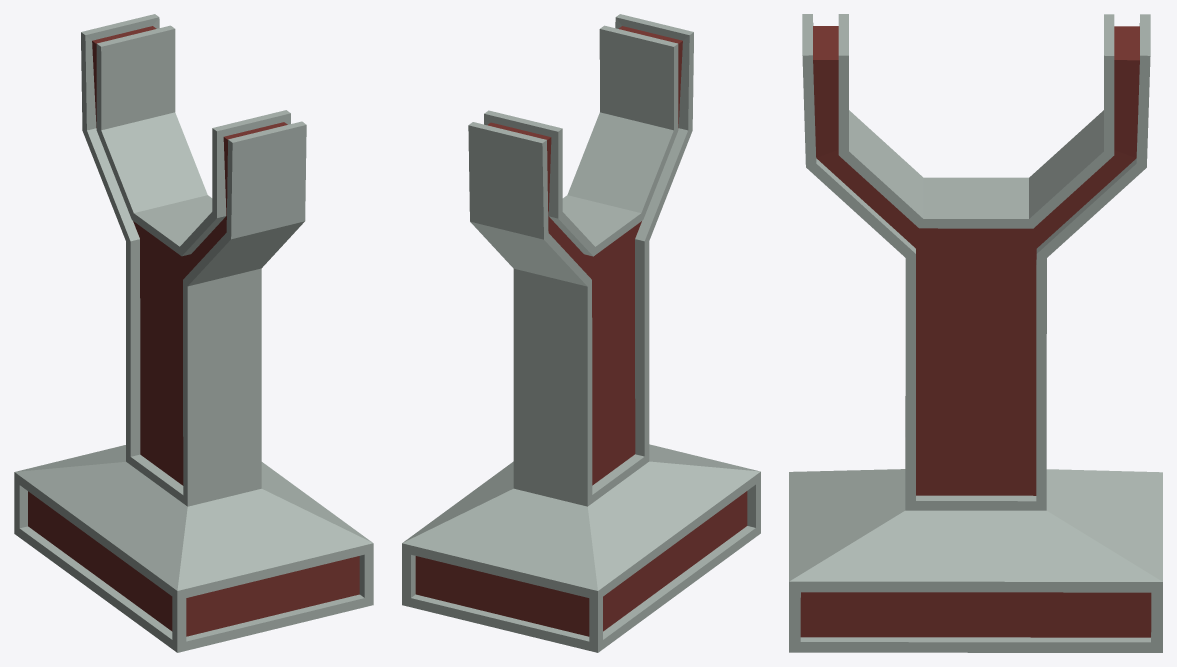
File: Support beam.fbx
3 views of the same model, side by side, from view 1: azimuth 30°, elevation 25°; view 2: azimuth 150°, elevation 25°; view 3: azimuth 270°, elevation 25° (orthographic). The views are drawn at different scales.
Parts seen in each view (by area): view 1: Cylinder.001; view 2: Cylinder.001; view 3: Cylinder.001.
Part boxes in pixels (x1,y1,x2,y2): Cylinder.001: (14,14,373,652); Cylinder.001: (402,14,760,652); Cylinder.001: (789,14,1162,652).
Bounding box in the file's own units: 24.27 × 58.12 × 34.96.
